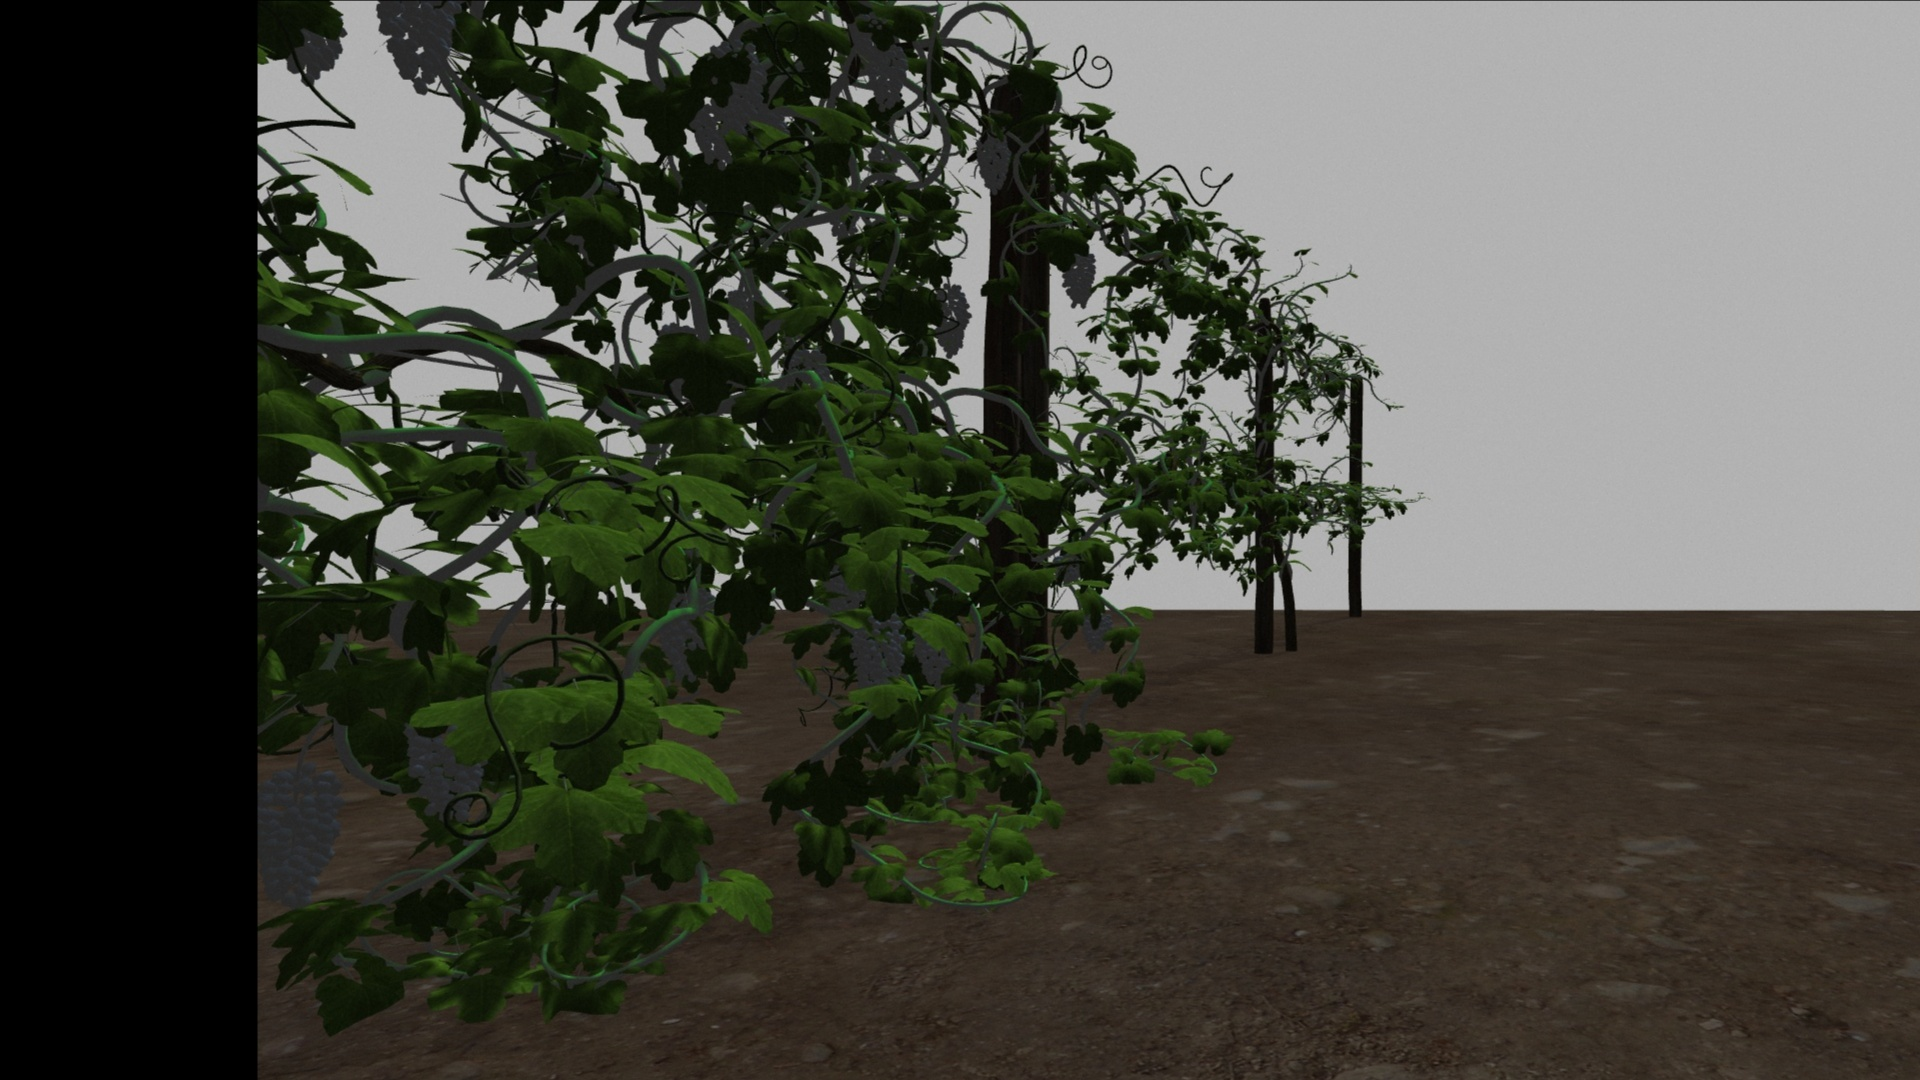grape: (266, 764, 348, 910), (402, 721, 489, 822), (373, 5, 462, 94), (708, 41, 767, 129), (851, 617, 906, 687), (864, 37, 909, 113), (661, 613, 704, 683), (934, 284, 972, 359), (1062, 244, 1098, 309), (975, 133, 1011, 195), (911, 629, 952, 683), (1083, 608, 1112, 651)
